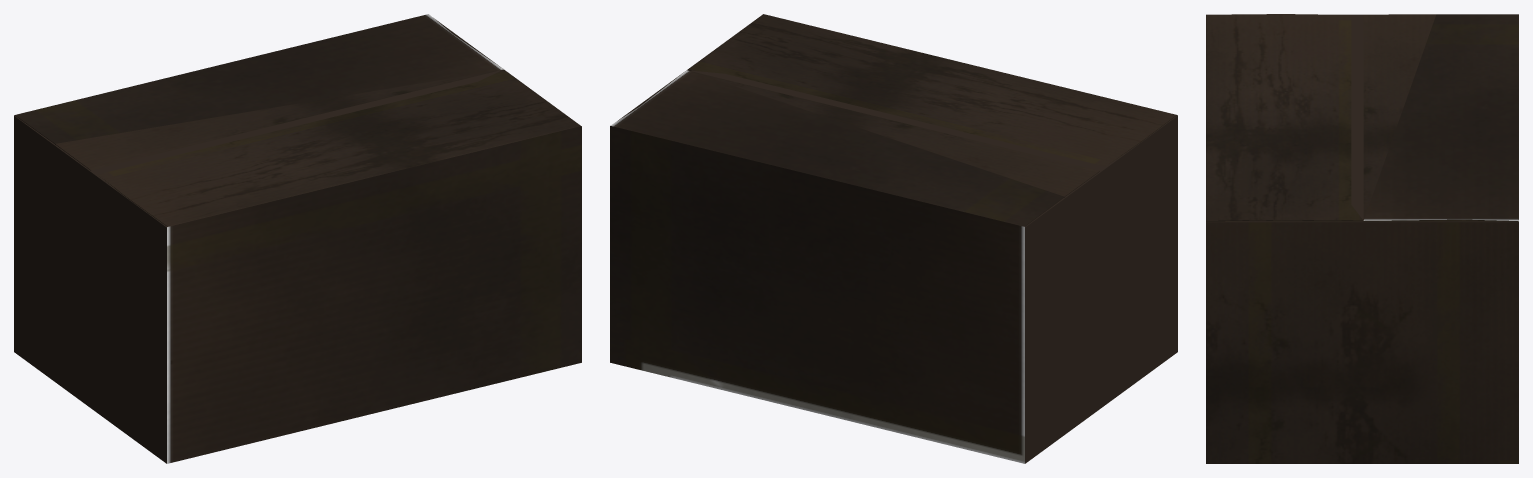
The model's file is box_cardboard.FBX.
The picture shows the model from 3 angles, left to right: view 1: azimuth 30°, elevation 25°; view 2: azimuth 150°, elevation 25°; view 3: azimuth 270°, elevation 25°; orthographic projection. The views are drawn at different scales.
Parts seen in each view (by area): view 1: default; view 2: default; view 3: default.
Boxes of the visible parts, x1=… form: default: x1=14, y1=14, x2=581, y2=463; default: x1=610, y1=14, x2=1177, y2=463; default: x1=1206, y1=14, x2=1518, y2=463.
Size of the model in its own units: 5.07 by 2.77 by 3.23.
